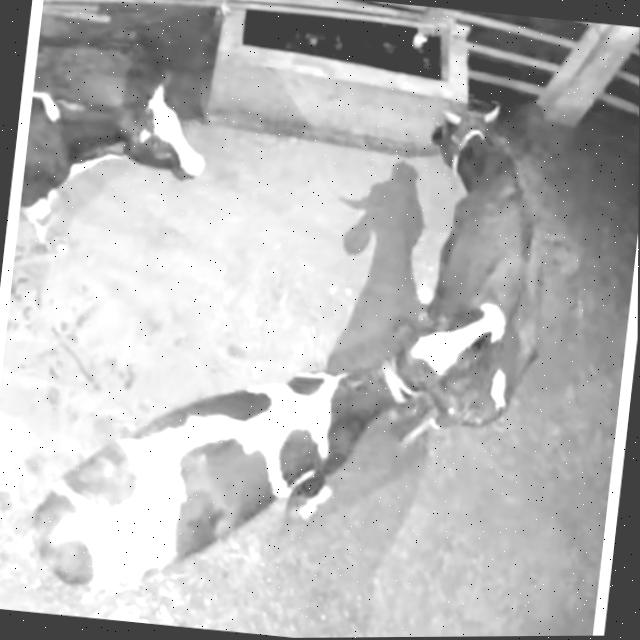propping: (352, 250, 530, 442)
